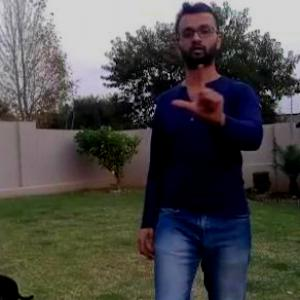land_hand: (168, 61, 236, 124)
